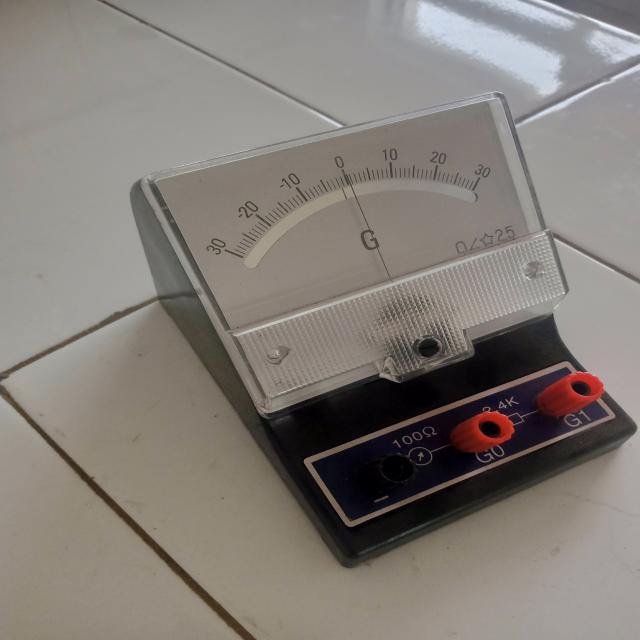Galvanometer: (105, 80, 633, 563)
